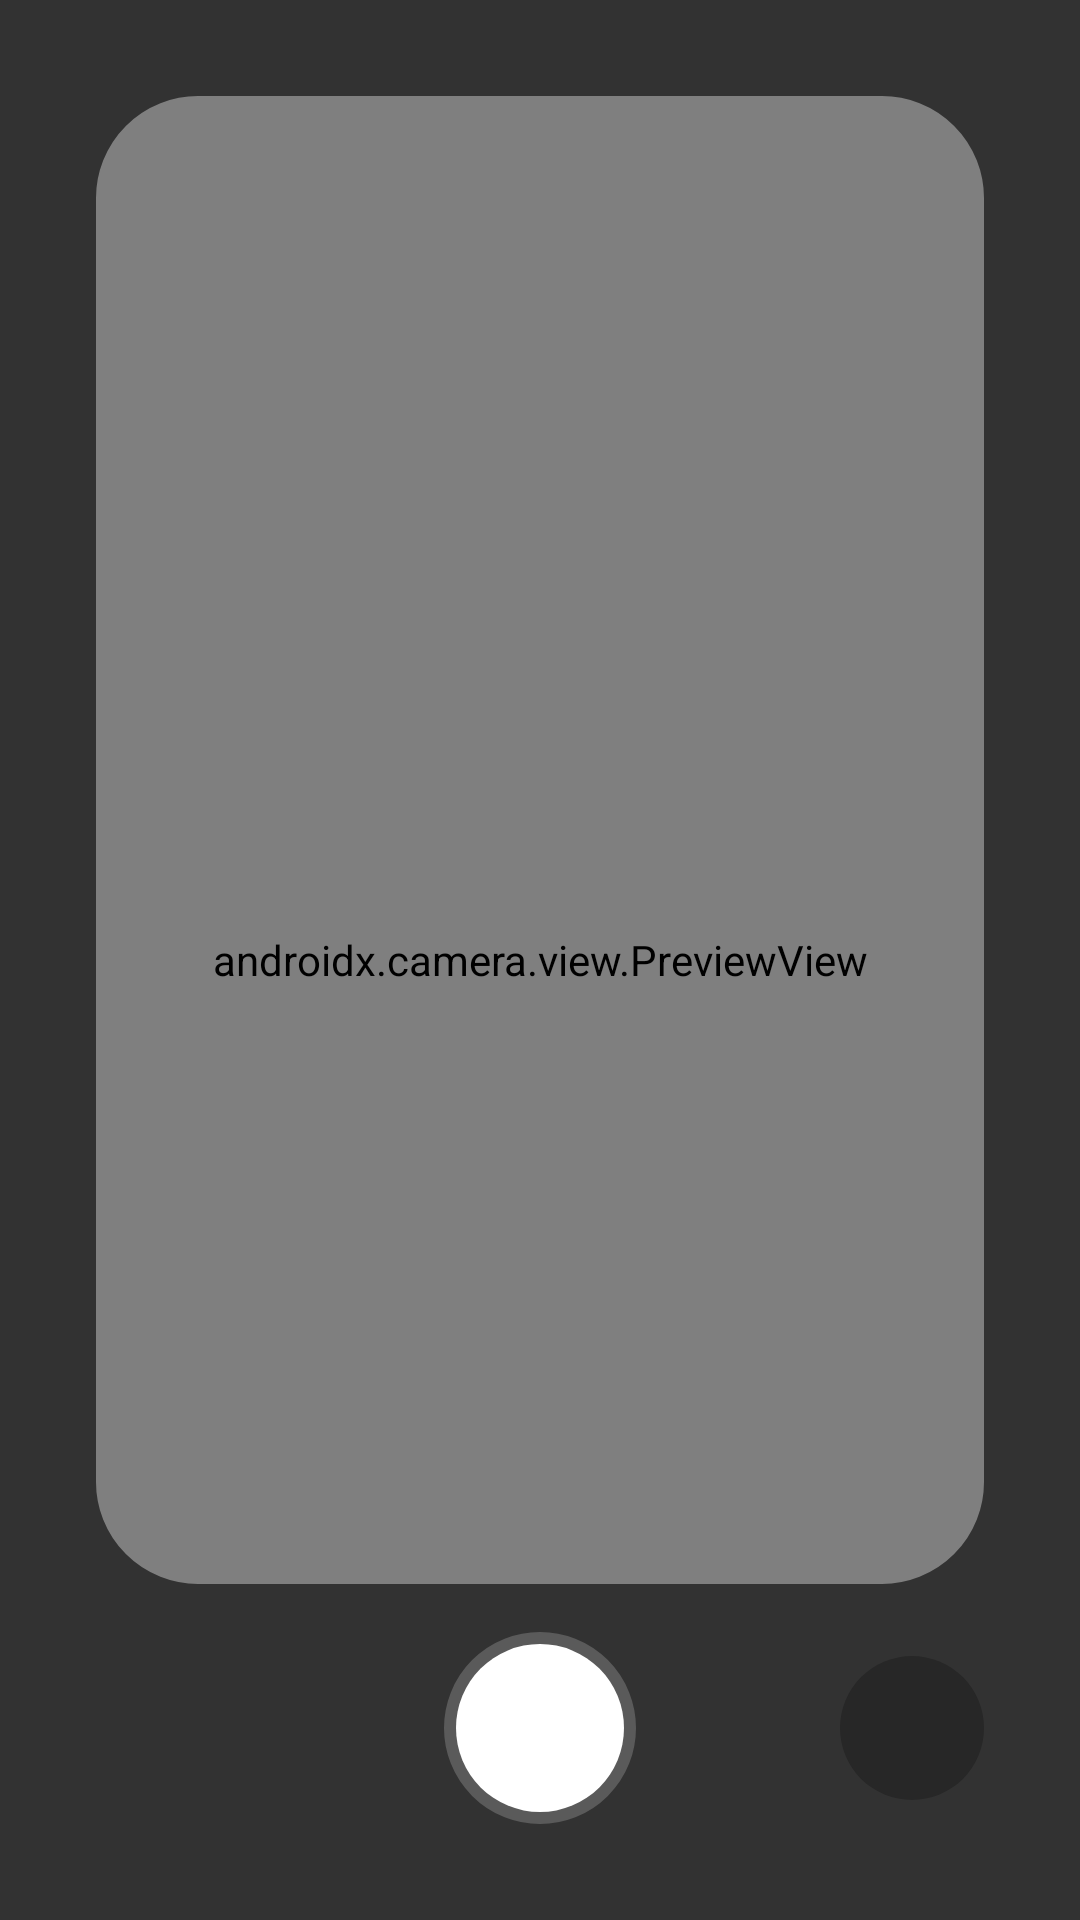

Named icons in this screenshot (1080px×1920px) and their centers, [x,y]:
capture: [540,1728]
